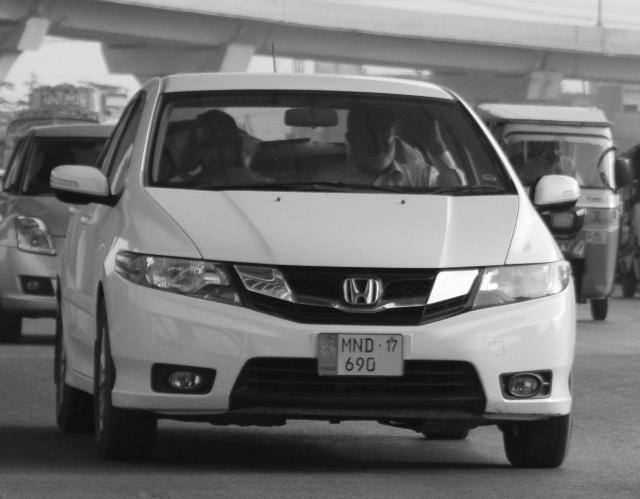Number: (340, 339, 378, 374)
